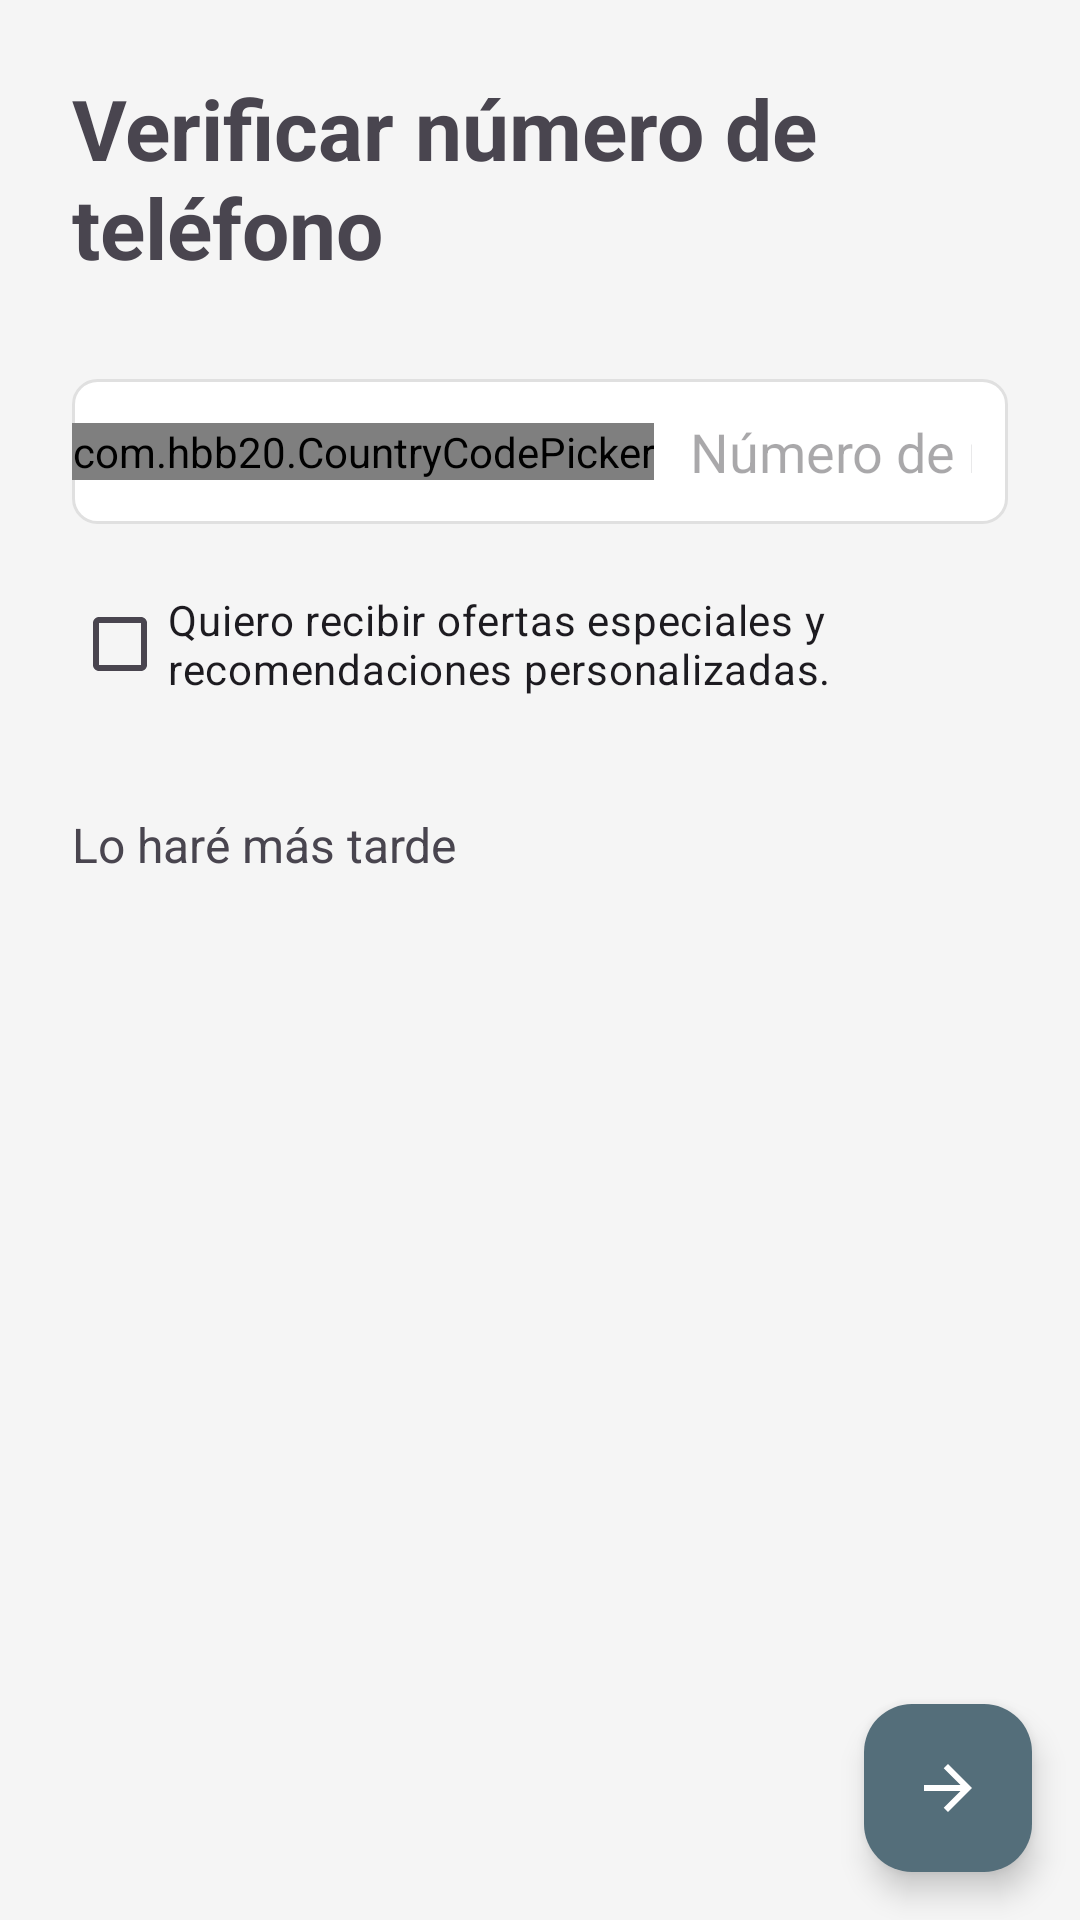

Named icons in this screenshot (1080x1920) and their centers, (x=x, y=y):
arrow forward: (x=948, y=1788)
